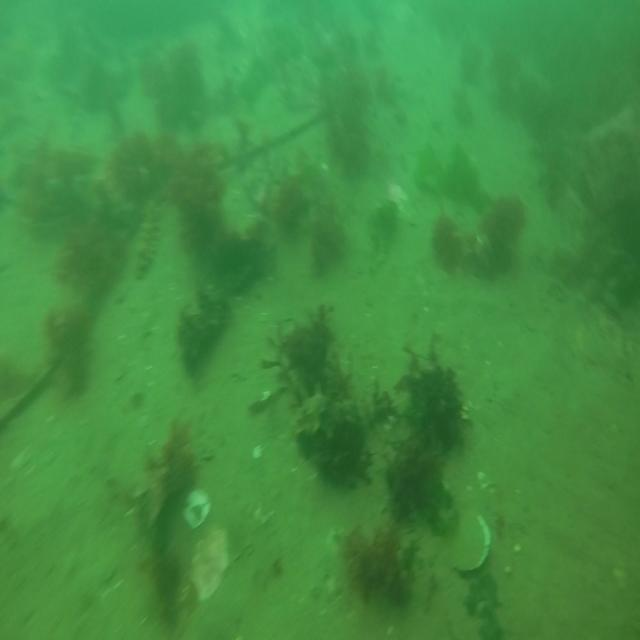holothurian: (132, 189, 161, 280)
scallop: (190, 526, 230, 601)
